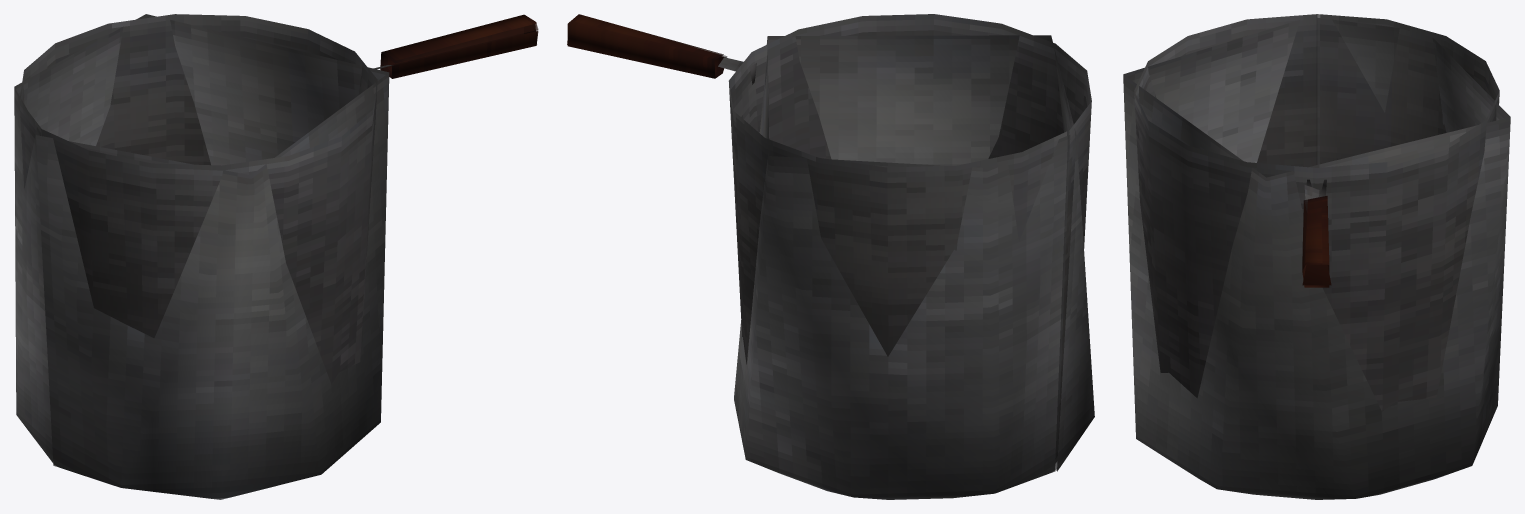
The model's file is camp_pan.glb.
3 renders of one model, left to right at view 1: azimuth 30°, elevation 25°; view 2: azimuth 150°, elevation 25°; view 3: azimuth 270°, elevation 25°, orthographic.
Parts seen in each view (by area): view 1: Pan_A.001; view 2: Pan_A.001; view 3: Pan_A.001.
Part boxes in pixels (x1,y1,x2,y2): Pan_A.001: (14, 14, 538, 499); Pan_A.001: (567, 14, 1094, 499); Pan_A.001: (1123, 14, 1510, 499).
Size of the model in its own units: 0.3144 by 0.2064 by 0.2102.
Materials: 1 (1 with a texture image).
